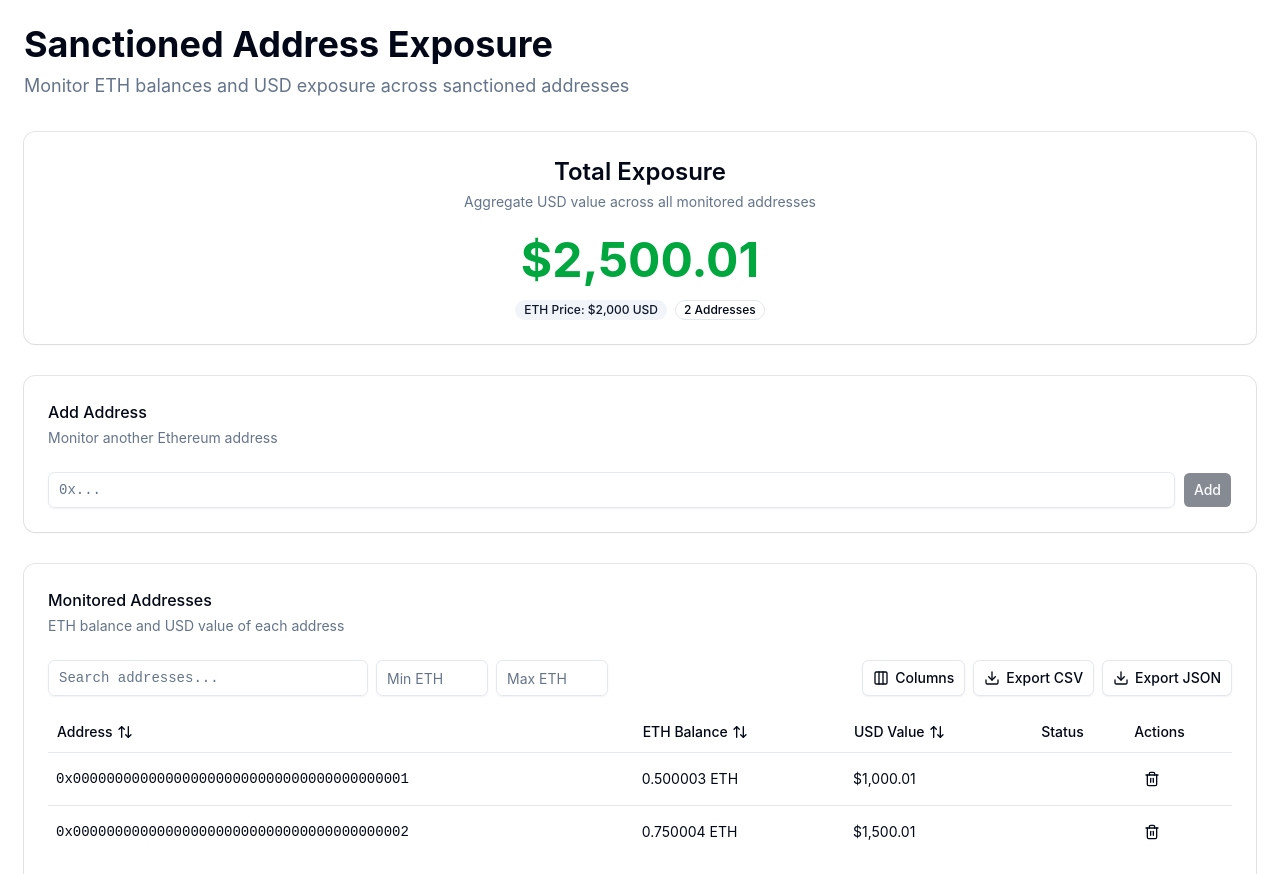
Test: ExposurePage › shows an error toast for an address already in the list
The image size is (1280, 874).
Type "0x0000000000000000000000000000000000000001" into the field named "Ethereum address" at point(611, 490), box [48,472,1175,508]
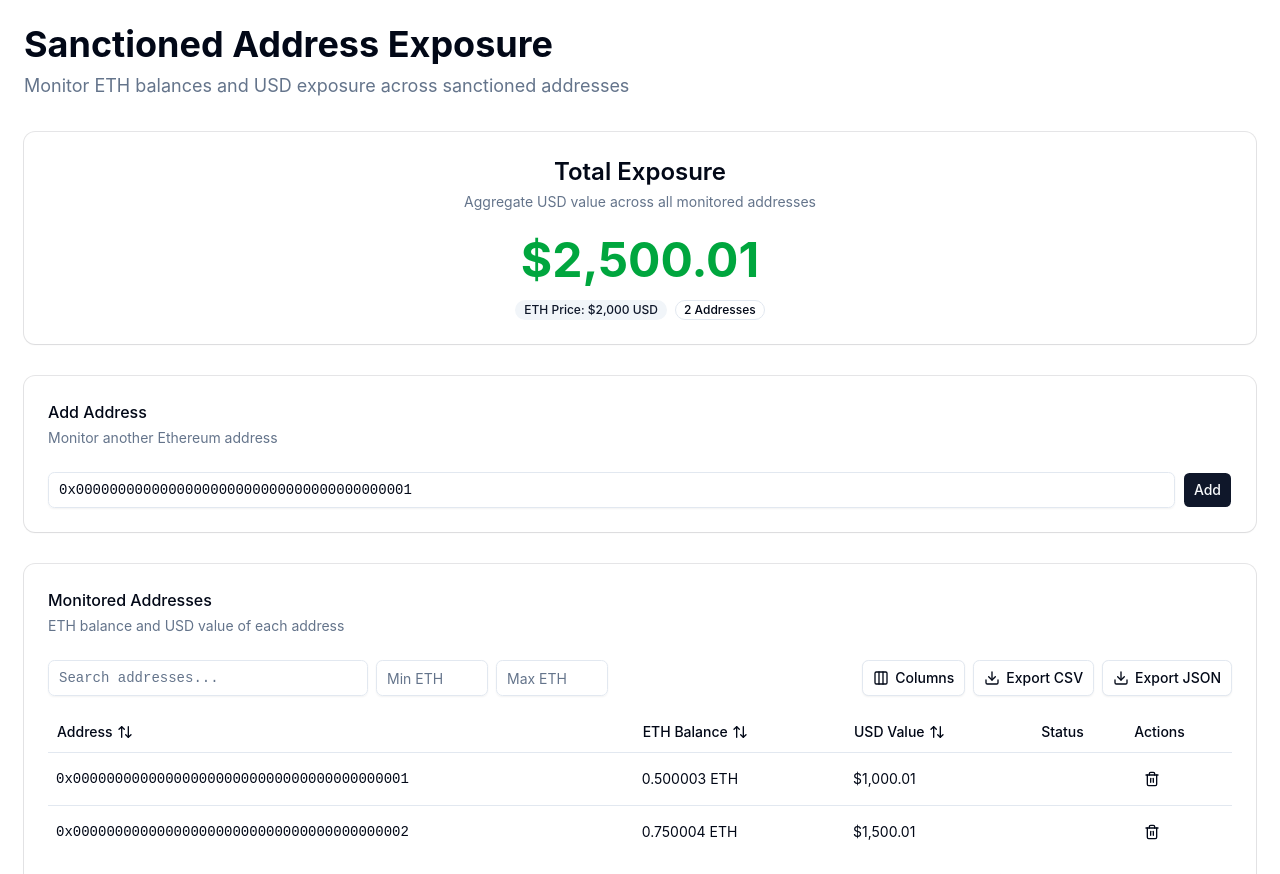
Click the button "Add" at point(1207, 490), box [1183,472,1232,508]
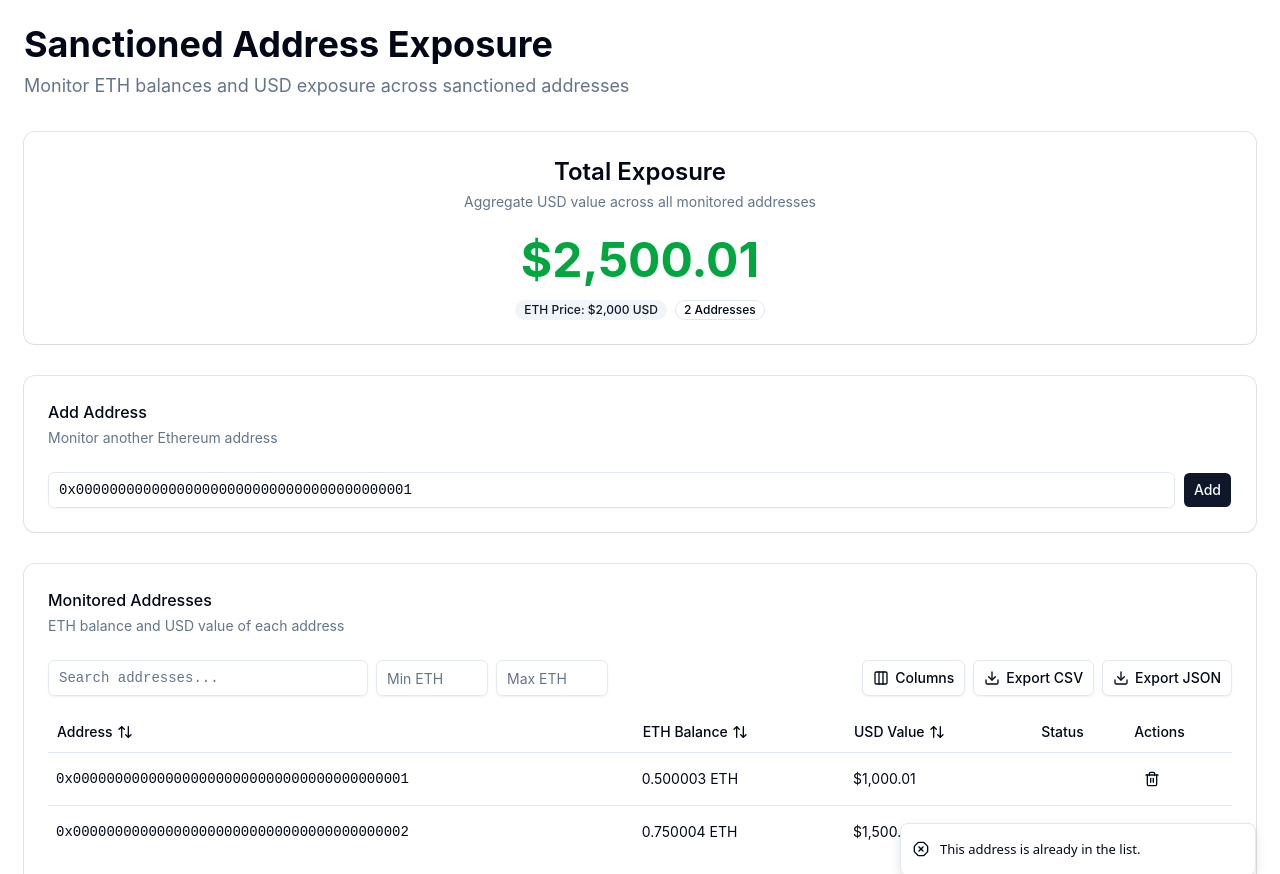
Check: the number of buttons named "Remove " is 2, box [1134,760,1170,796]; [1134,814,1170,850]
Check: the text "This address is already in the list." is shown, box [940,840,1140,859]
